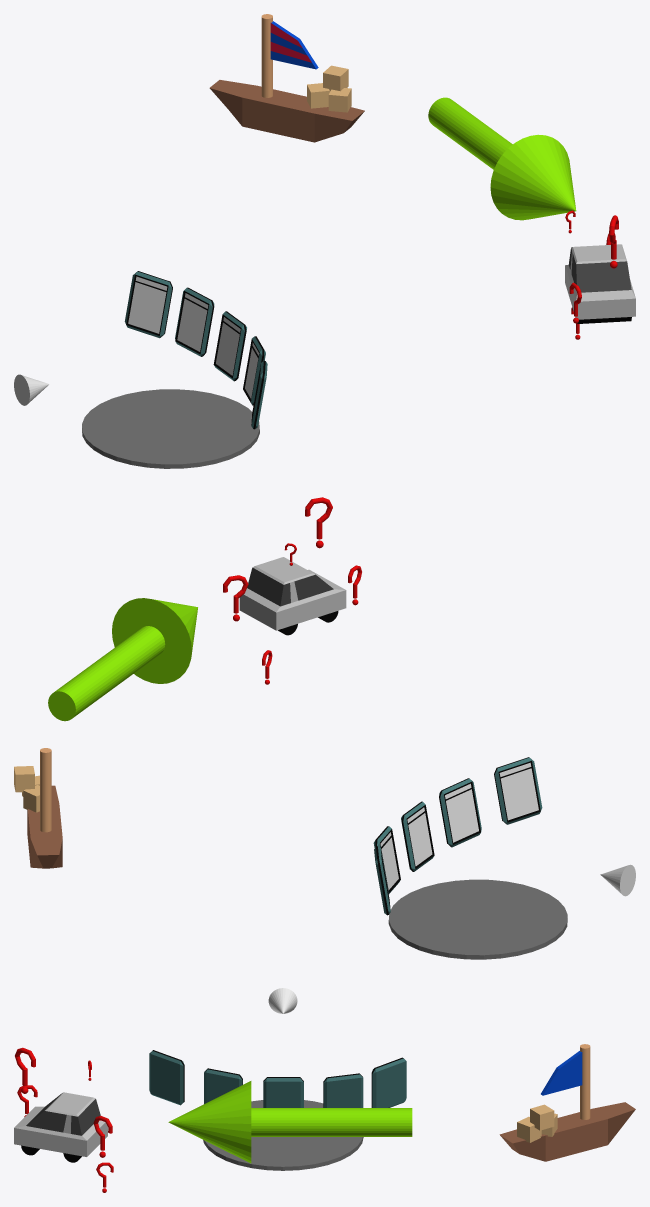
File: Gatex3.glb
The picture shows the model from 3 angles, top to bottom: view 1: azimuth 30°, elevation 25°; view 2: azimuth 150°, elevation 25°; view 3: azimuth 270°, elevation 25°; orthographic projection. The views are drawn at different scales.
Visible parts, largest first — view 1: Cylinder, Barco, Flecha, Auto, Tarjeta5, Tarjeta2, Tarjeta1, Tarjeta3, Signos, Usuario; view 2: Cylinder, Flecha, Auto, Barco, Tarjeta4, Tarjeta3, Tarjeta1, Signos, Tarjeta2, Usuario; view 3: Flecha, Barco, Auto, Cylinder, Tarjeta4, Tarjeta5, Tarjeta2, Tarjeta1, Signos, Tarjeta3, Usuario.
Part boxes in pixels (bbox=[...]): Cylinder: bbox=[82, 389, 259, 468]; Barco: bbox=[209, 14, 364, 142]; Flecha: bbox=[428, 97, 576, 220]; Auto: bbox=[565, 244, 635, 323]; Tarjeta5: bbox=[124, 271, 172, 338]; Tarjeta2: bbox=[175, 287, 214, 356]; Tarjeta1: bbox=[213, 311, 246, 381]; Tarjeta3: bbox=[243, 336, 265, 405]; Signos: bbox=[565, 210, 618, 339]; Usuario: bbox=[14, 374, 49, 405]; Cylinder: bbox=[388, 879, 567, 959]; Flecha: bbox=[48, 598, 197, 721]; Auto: bbox=[239, 557, 346, 635]; Barco: bbox=[14, 748, 62, 868]; Tarjeta4: bbox=[494, 757, 542, 824]; Tarjeta3: bbox=[439, 778, 481, 847]; Tarjeta1: bbox=[401, 801, 434, 871]; Signos: bbox=[223, 497, 361, 684]; Tarjeta2: bbox=[373, 826, 400, 894]; Usuario: bbox=[600, 864, 635, 896]; Flecha: bbox=[168, 1081, 412, 1163]; Barco: bbox=[499, 1044, 635, 1161]; Auto: bbox=[14, 1092, 107, 1162]; Cylinder: bbox=[203, 1100, 363, 1170]; Tarjeta4: bbox=[149, 1050, 184, 1105]; Tarjeta5: bbox=[371, 1057, 406, 1107]; Tarjeta2: bbox=[323, 1073, 363, 1107]; Tarjeta1: bbox=[263, 1077, 303, 1107]; Signos: bbox=[15, 1047, 113, 1192]; Tarjeta3: bbox=[204, 1068, 242, 1103]; Usuario: bbox=[268, 988, 297, 1013].
Bounding box in the file's own units: 38.38 × 16.84 × 43.
